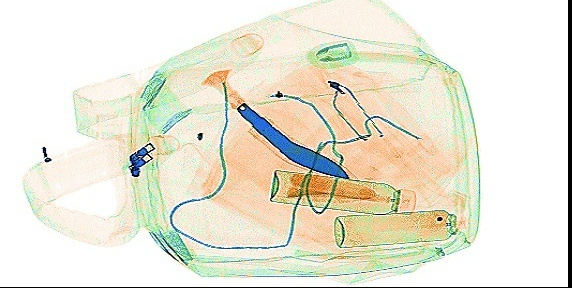knife: (201, 67, 348, 179)
pressure: (268, 169, 415, 216), (332, 207, 468, 247)
